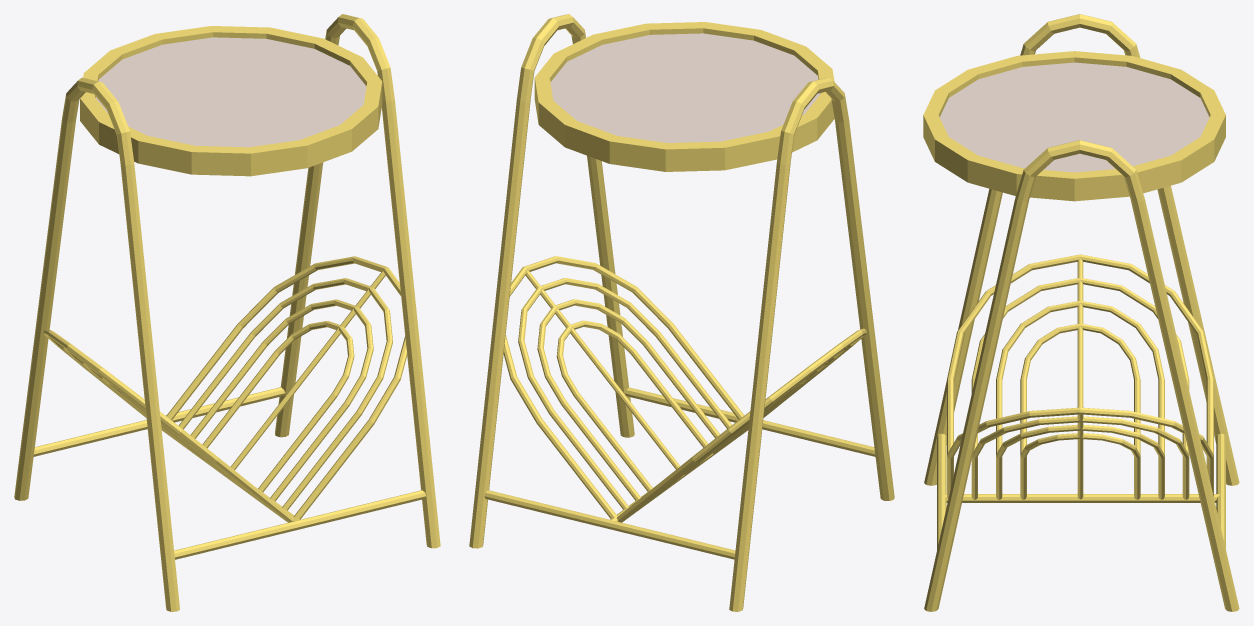
Rendered from Table_15.fbx.
3 views of the same model, side by side, from view 1: azimuth 30°, elevation 25°; view 2: azimuth 150°, elevation 25°; view 3: azimuth 270°, elevation 25° (orthographic).
Visible parts, largest first — view 1: Table_15; view 2: Table_15; view 3: Table_15.
Part boxes in pixels (x1,y1,x2,y2): Table_15: [14, 14, 440, 611]; Table_15: [469, 14, 894, 611]; Table_15: [923, 14, 1239, 611].
Size of the model in its own units: 54.73 by 46.81 by 76.57.
